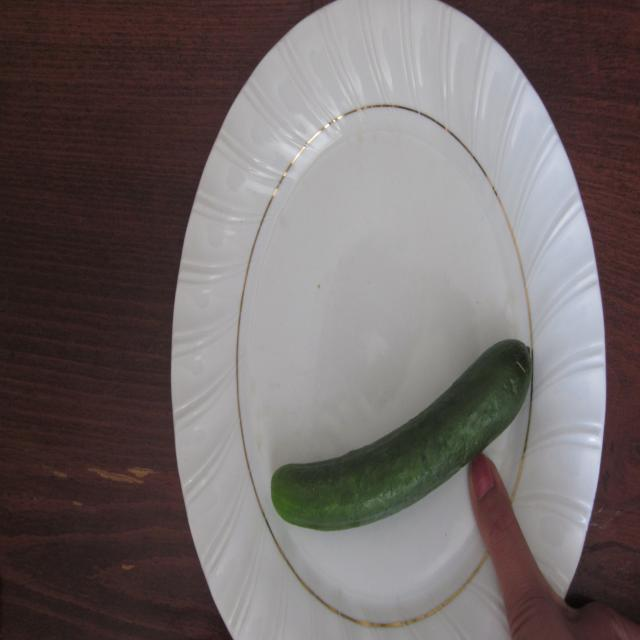cucumber: (244, 336, 535, 550)
